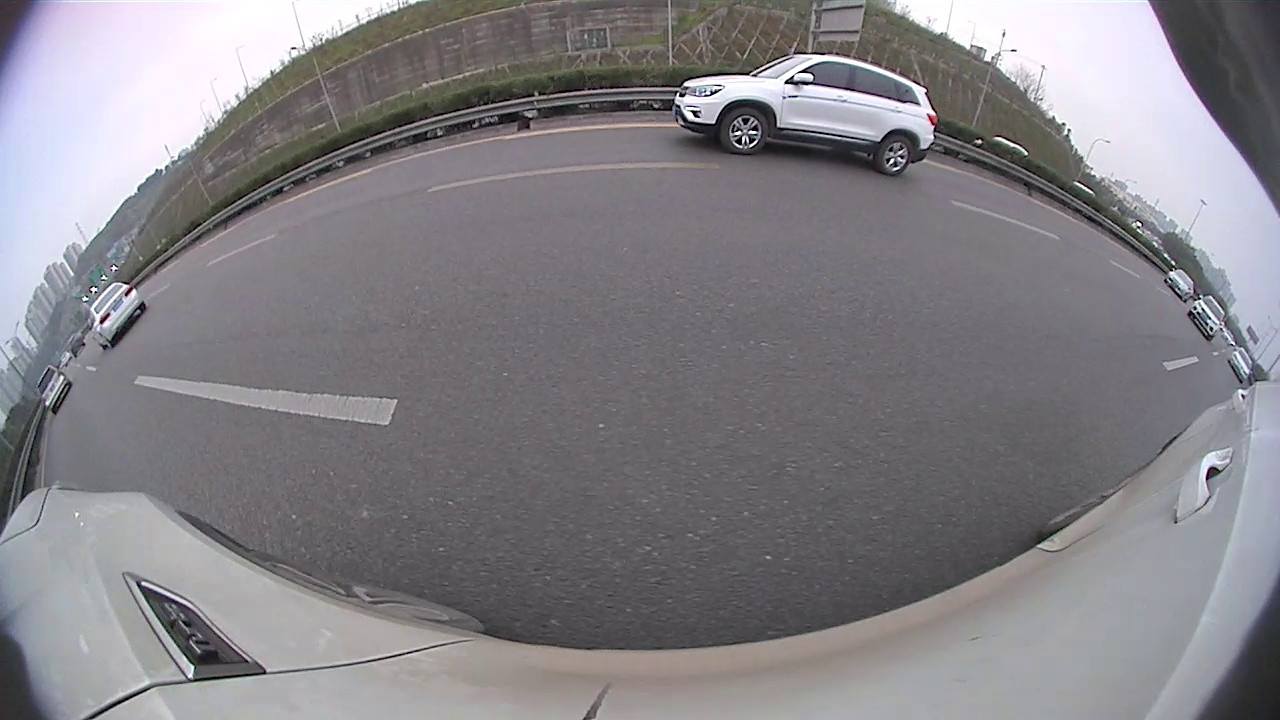car: (669, 51, 939, 179), (85, 279, 148, 353), (1184, 293, 1227, 345), (35, 365, 72, 418), (1165, 266, 1196, 303), (1228, 343, 1255, 385)
front: (721, 109, 768, 154)
rear: (876, 137, 913, 178)
